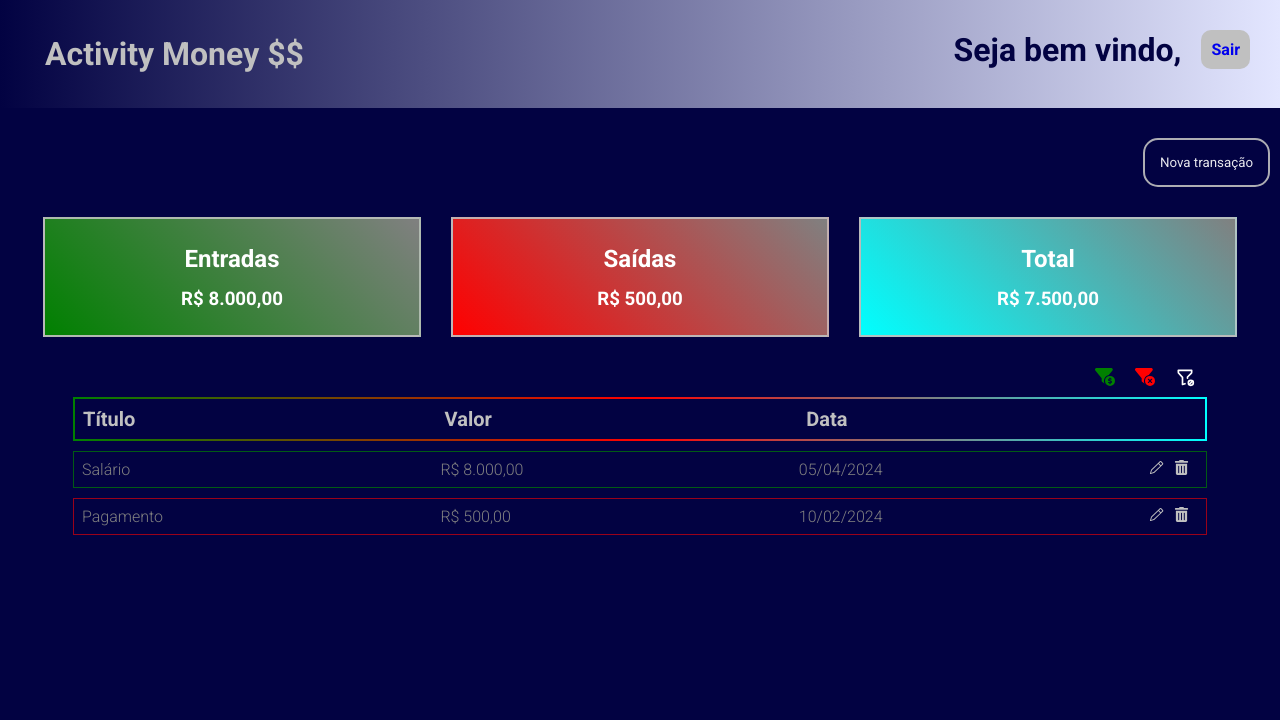
Test: Tests the Home page › should open a modal for transactions when clicks on "Nova transação"
Click the button "Nova transação" at [1207, 163], box [1143,138,1270,187]
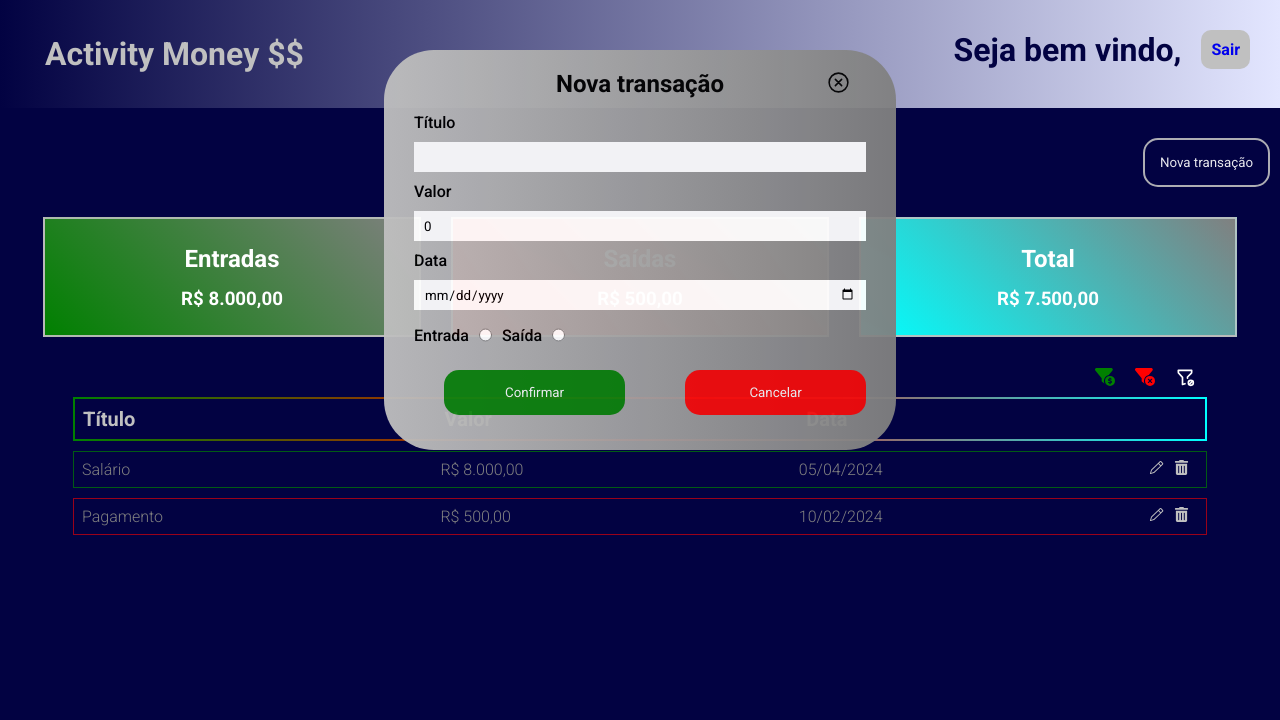
Expected: the heading "Entradas" is shown, [184,244,280,272]
Result: the button "Confirmar" is shown at [444,370,625,415]
Result: the button "Cancelar" is shown at [685,370,866,415]
